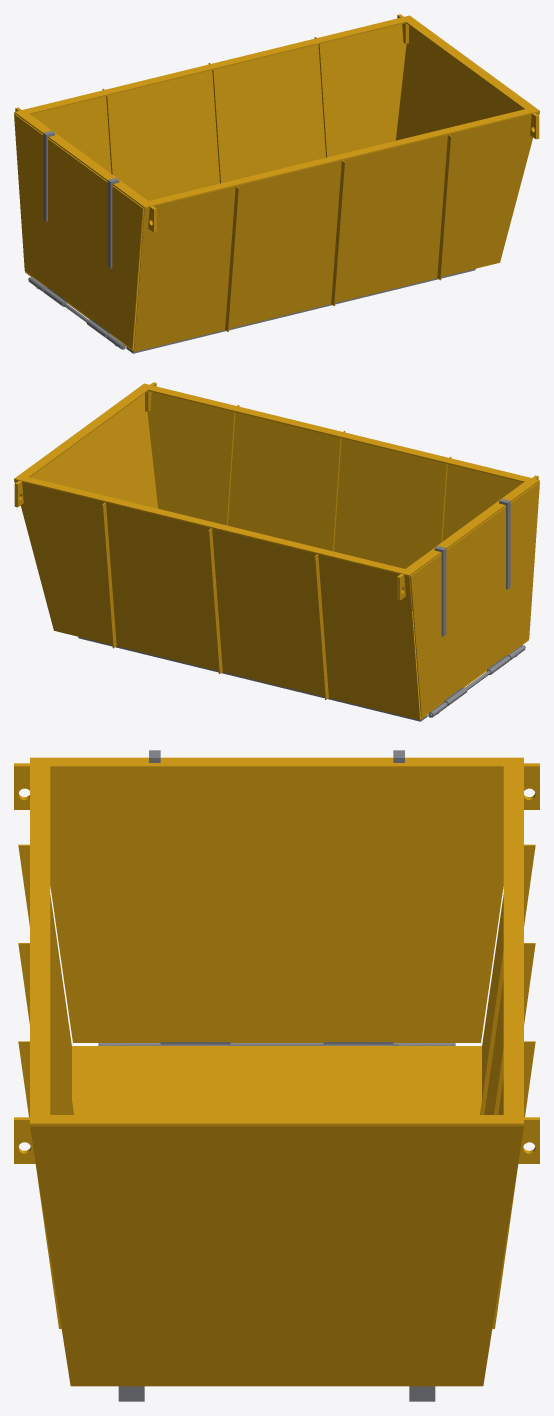
Rendered from skip.glb.
The picture shows the model from 3 angles, top to bottom: view 1: azimuth 30°, elevation 25°; view 2: azimuth 150°, elevation 25°; view 3: azimuth 270°, elevation 25°; orthographic projection. The views are drawn at different scales.
Visible parts, largest first — view 1: bin_body, rear_door; view 2: bin_body, rear_door; view 3: bin_body, rear_door.
Boxes of the visible parts, bbox=[...] form: bin_body: bbox=[14, 14, 539, 353]; rear_door: bbox=[14, 114, 143, 349]; bin_body: bbox=[14, 382, 539, 721]; rear_door: bbox=[410, 482, 539, 717]; bin_body: bbox=[14, 757, 539, 1401]; rear_door: bbox=[50, 750, 503, 1045].
Bounding box in the file's own units: 3.02 × 1.22 × 1.81.
